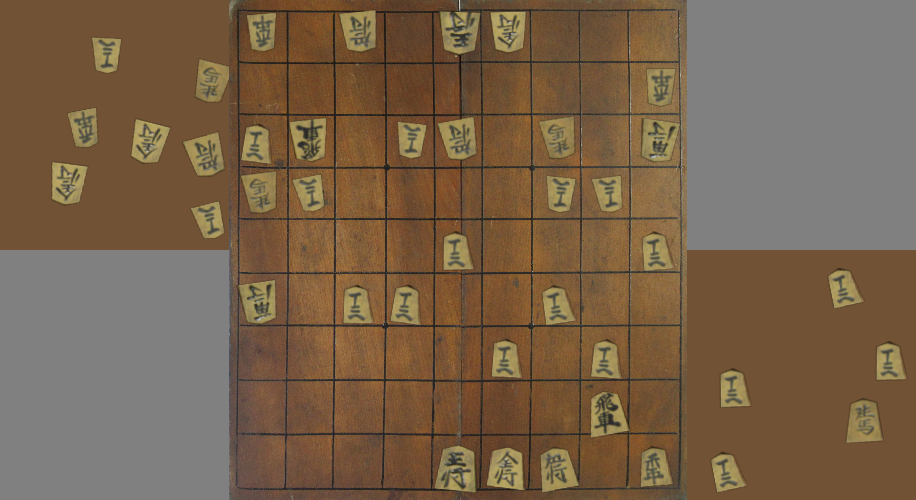A: (589, 391, 628, 437), (436, 446, 475, 492), (487, 444, 525, 489), (540, 447, 578, 492), (640, 229, 672, 270), (639, 448, 672, 486), (391, 285, 423, 324), (543, 287, 574, 324), (344, 286, 374, 323), (591, 341, 620, 378), (492, 341, 521, 377), (242, 125, 269, 163), (444, 234, 472, 269)
B: (440, 11, 480, 54), (437, 118, 475, 159), (538, 117, 575, 159), (290, 119, 326, 161), (643, 119, 679, 161), (340, 11, 376, 51), (491, 11, 526, 52), (240, 282, 274, 323), (243, 173, 274, 213), (291, 175, 324, 211), (646, 69, 675, 106), (396, 122, 425, 157), (247, 15, 275, 51), (594, 176, 622, 211), (548, 176, 575, 212)
C: (847, 399, 882, 442), (709, 451, 745, 492), (826, 268, 862, 308), (718, 369, 751, 409), (875, 342, 906, 379)
D: (184, 133, 224, 176), (131, 120, 169, 163), (51, 163, 86, 204), (196, 60, 229, 102), (68, 109, 97, 147), (192, 203, 223, 238), (94, 38, 121, 73)
